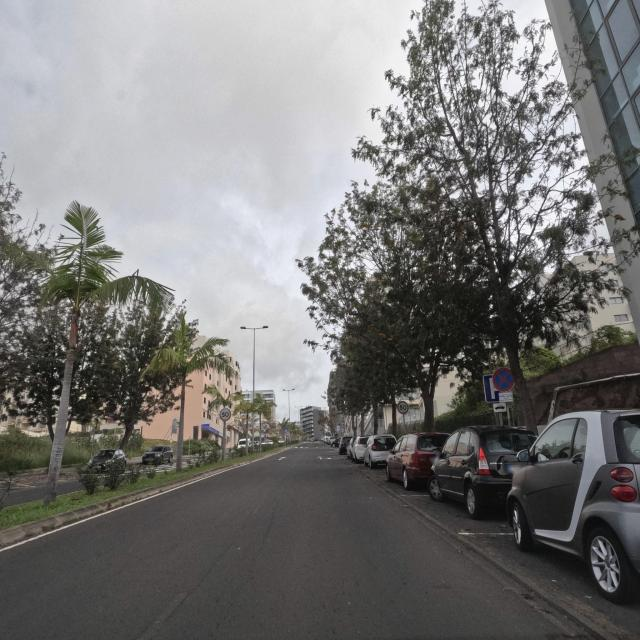car: (505, 406, 640, 604), (428, 424, 538, 518), (385, 431, 450, 491), (363, 433, 397, 470), (87, 448, 126, 471), (141, 445, 173, 465), (351, 435, 371, 464), (338, 435, 354, 455), (346, 436, 356, 458), (330, 437, 340, 448), (324, 436, 332, 444)
